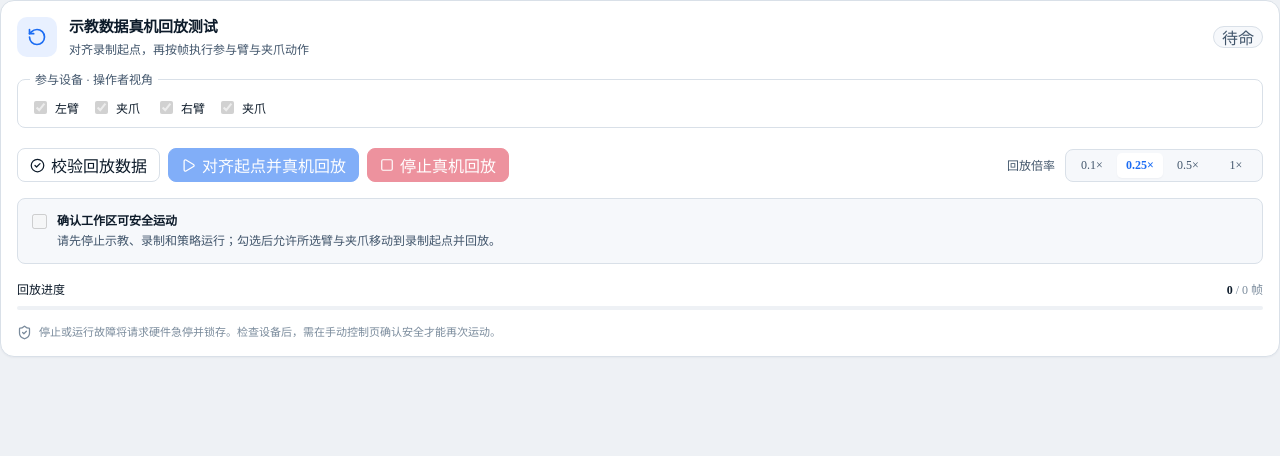
Test: DatasetReplayPanel › shows validation rejection without allowing motion
Step 1. Click the button "校验回放数据" → {"x": 88, "y": 165}, box [17,148,160,182]
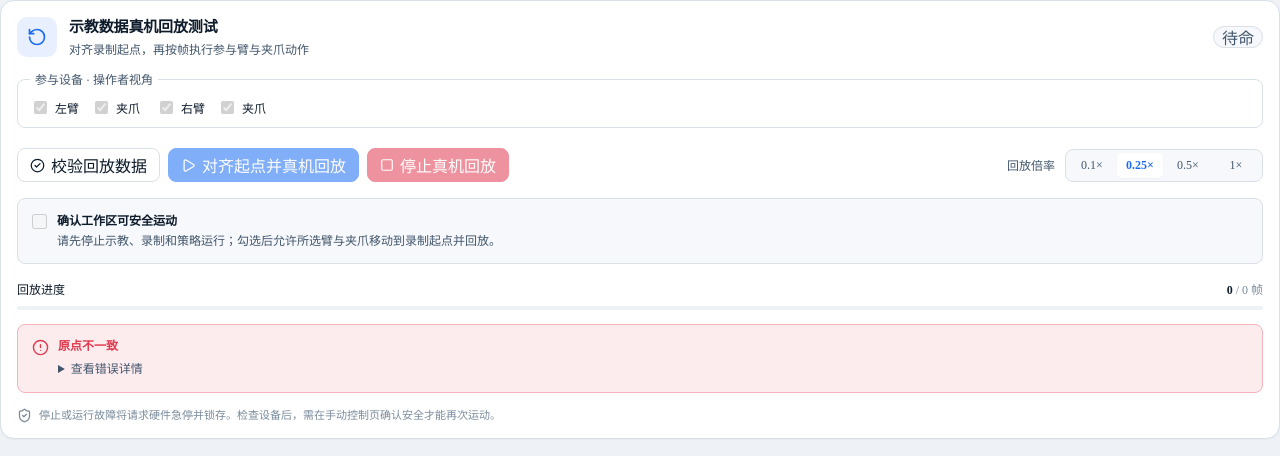
Expected: the button "对齐起点并真机回放" is disabled, [168,148,359,182]
Expected: the message shows "原点不一致", [58,339,118,353]
